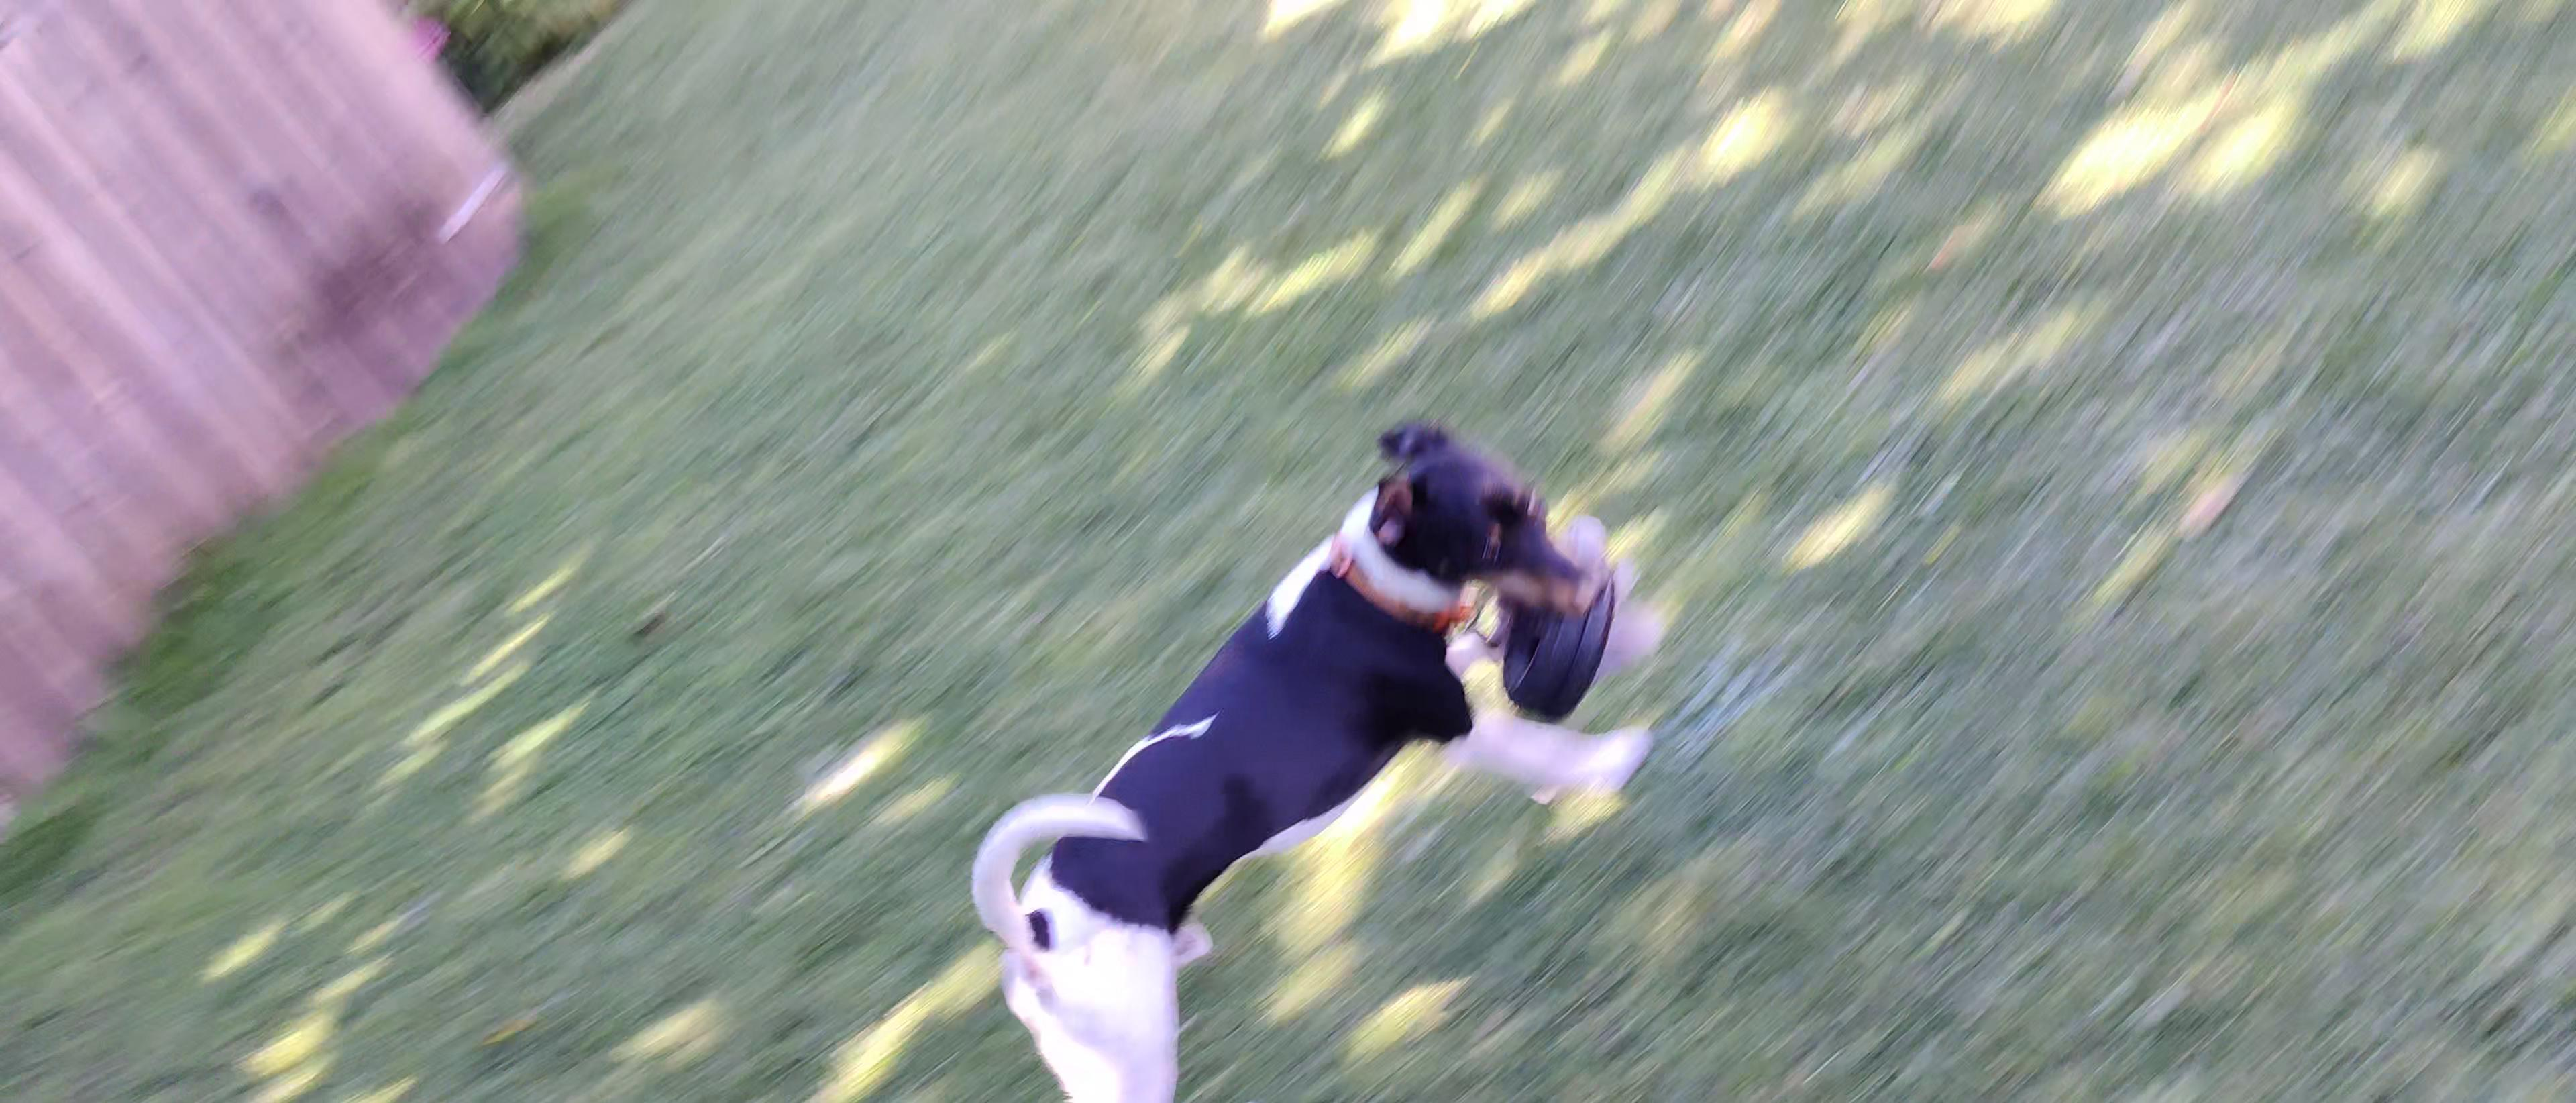Dog: (948, 383, 1686, 1103)
